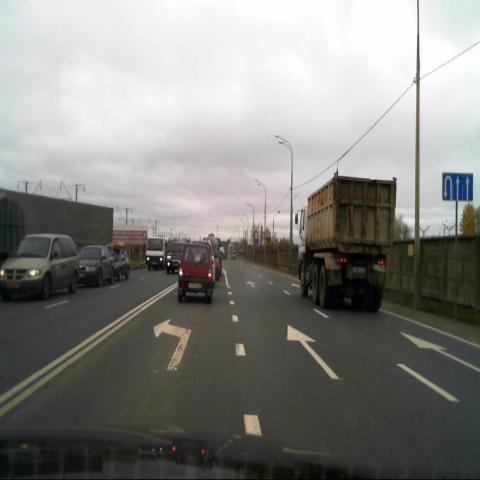5_15_1: (441, 171, 473, 202)
